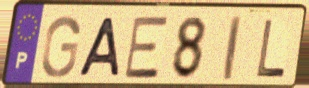8: (171, 15, 209, 81)
A: (76, 15, 122, 79)
E: (122, 14, 170, 81)
G: (39, 14, 82, 80)
I: (222, 14, 243, 83)
L: (255, 18, 288, 80)
